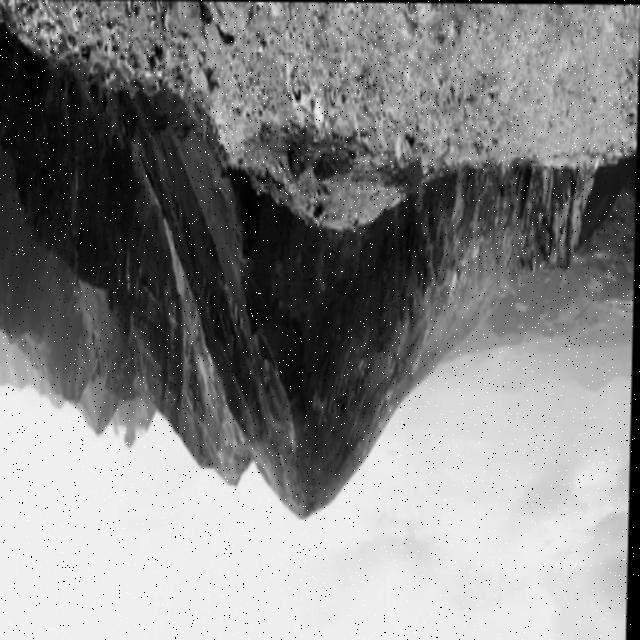Kopa Kondracka: (246, 397, 362, 640)
